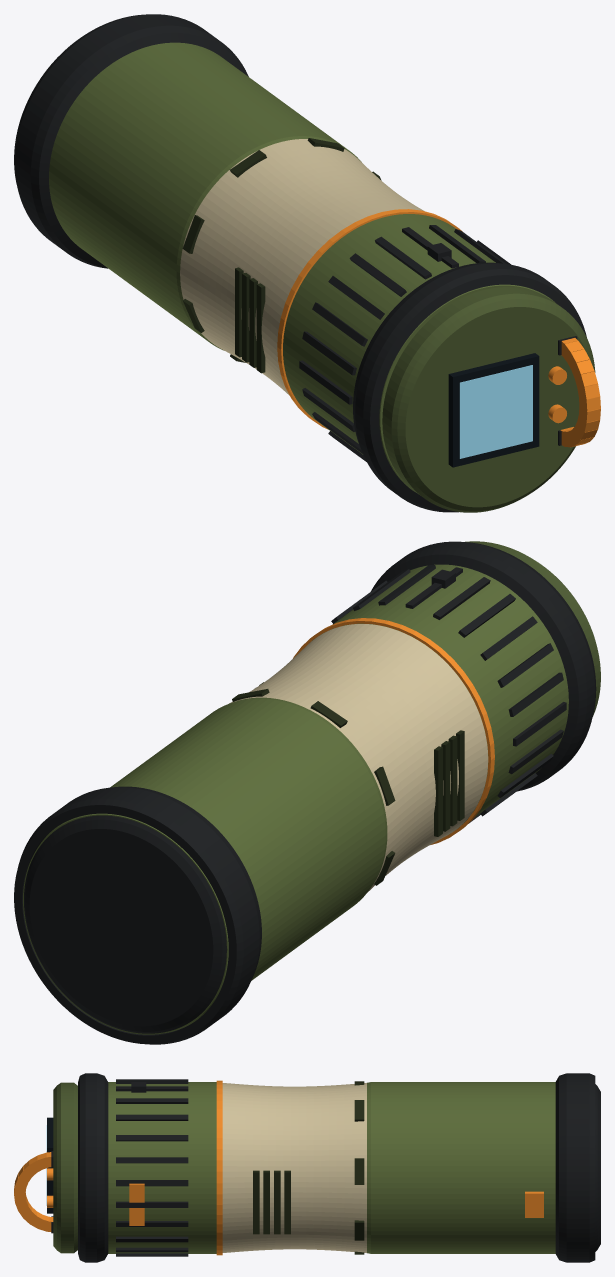
File: thermox_bottle_trail_onepcb.obj
3 views of the same model, one above another, from view 1: azimuth 30°, elevation 25°; view 2: azimuth 150°, elevation 25°; view 3: azimuth 270°, elevation 25° (orthographic). The views are drawn at different scales.
Visible parts, largest first — view 1: body_lower, lid, body_waist, body_upper, bumper_bottom, bumper_top, oled_screen, oled_1_5in, accent_ring, exhaust_slot_rear_4, exhaust_slot_rear_2, exhaust_slot_rear_3; view 2: body_lower, base_pad, body_waist, body_upper, bumper_bottom, bumper_top, accent_ring, lid, exhaust_slot_rear_1, exhaust_slot_rear_2, exhaust_slot_rear_3, exhaust_slot_rear_4; view 3: body_lower, body_waist, body_upper, bumper_bottom, bumper_top, lid, accent_ring, base_pad, nameplate, usb_cover, grip_rib_03, grip_rib_04 (+15 smaller).
Boxes of the visible parts, x1,y1,x2,y2 form: body_lower: (49, 42, 361, 350); lid: (382, 287, 595, 512); body_waist: (180, 139, 424, 395); body_upper: (283, 214, 554, 492); bumper_bottom: (14, 14, 248, 268); bumper_top: (353, 262, 586, 512); oled_screen: (459, 365, 532, 458); oled_1_5in: (448, 353, 539, 467); accent_ring: (277, 209, 462, 429); exhaust_slot_rear_4: (256, 283, 265, 373); exhaust_slot_rear_2: (242, 273, 250, 362); exhaust_slot_rear_3: (249, 278, 257, 367); body_lower: (23, 697, 387, 1034); base_pad: (24, 815, 226, 1033); body_waist: (229, 624, 488, 892); body_upper: (312, 564, 568, 834); bumper_bottom: (14, 786, 261, 1044); bumper_top: (371, 541, 596, 791); accent_ring: (293, 618, 494, 844); lid: (465, 541, 600, 716); exhaust_slot_rear_1: (434, 746, 442, 836); exhaust_slot_rear_2: (441, 741, 450, 831); exhaust_slot_rear_3: (448, 735, 457, 826); exhaust_slot_rear_4: (456, 730, 464, 820); body_lower: (367, 1082, 555, 1253); body_waist: (222, 1083, 366, 1252); body_upper: (108, 1082, 216, 1253); bumper_bottom: (555, 1073, 595, 1262); bumper_top: (78, 1073, 108, 1262); lid: (53, 1082, 77, 1253); accent_ring: (216, 1080, 222, 1255); base_pad: (595, 1084, 600, 1251); nameplate: (129, 1183, 144, 1225); usb_cover: (525, 1191, 543, 1217); grip_rib_03: (116, 1157, 188, 1163); grip_rib_04: (116, 1135, 188, 1141).
Bounding box in the file's own units: 99.6 × 99.6 × 309.
